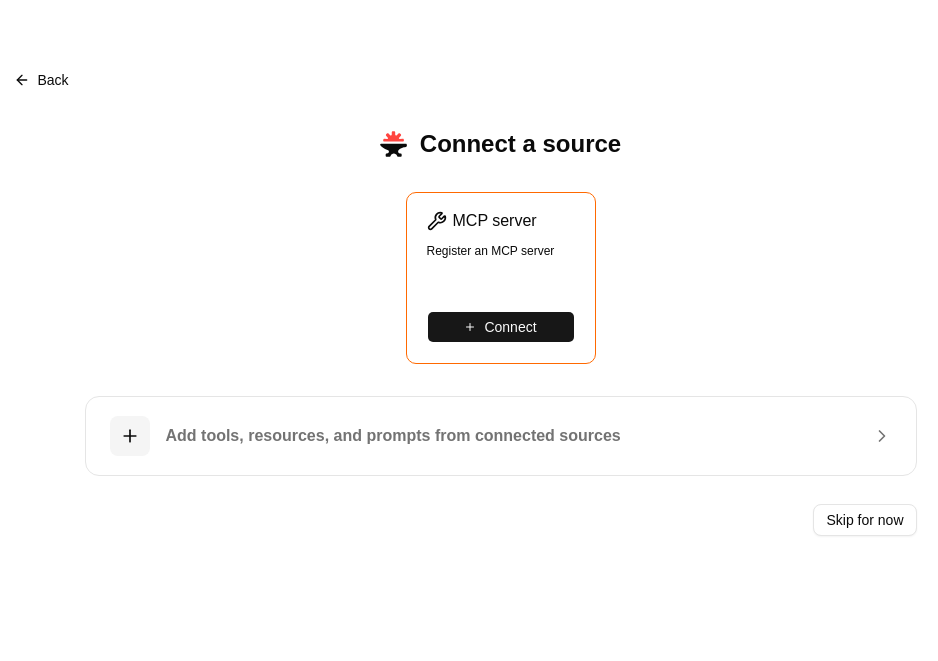
Test: SourceSelection › shows an alert when MCP server loading fails
Click the button "Add tools, resources, and prompts from connected sources" at (500, 436), box [84, 396, 916, 476]
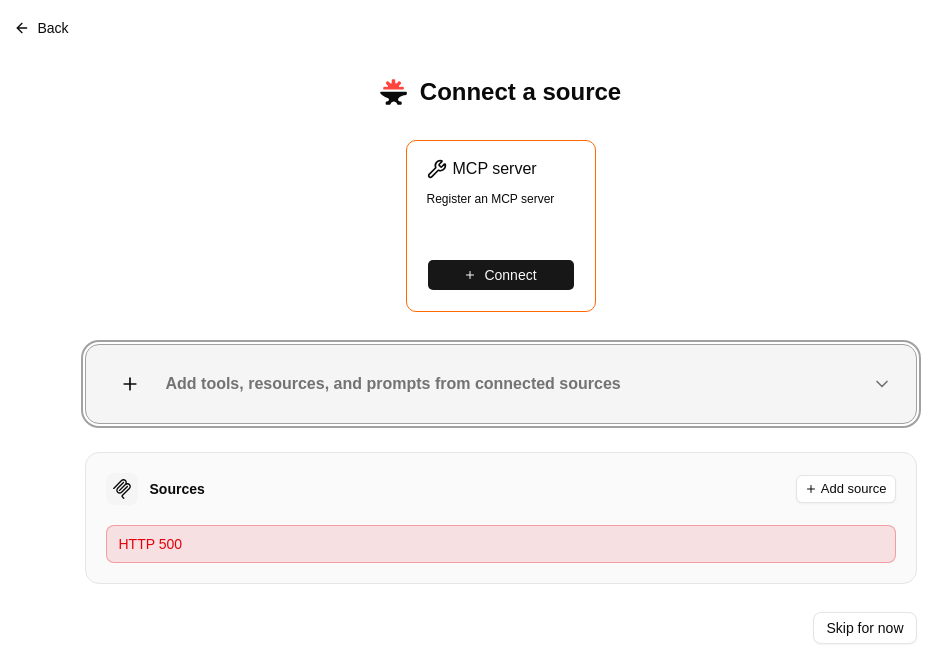
expect the message reads "HTTP 500": met, box [118, 536, 182, 552]
